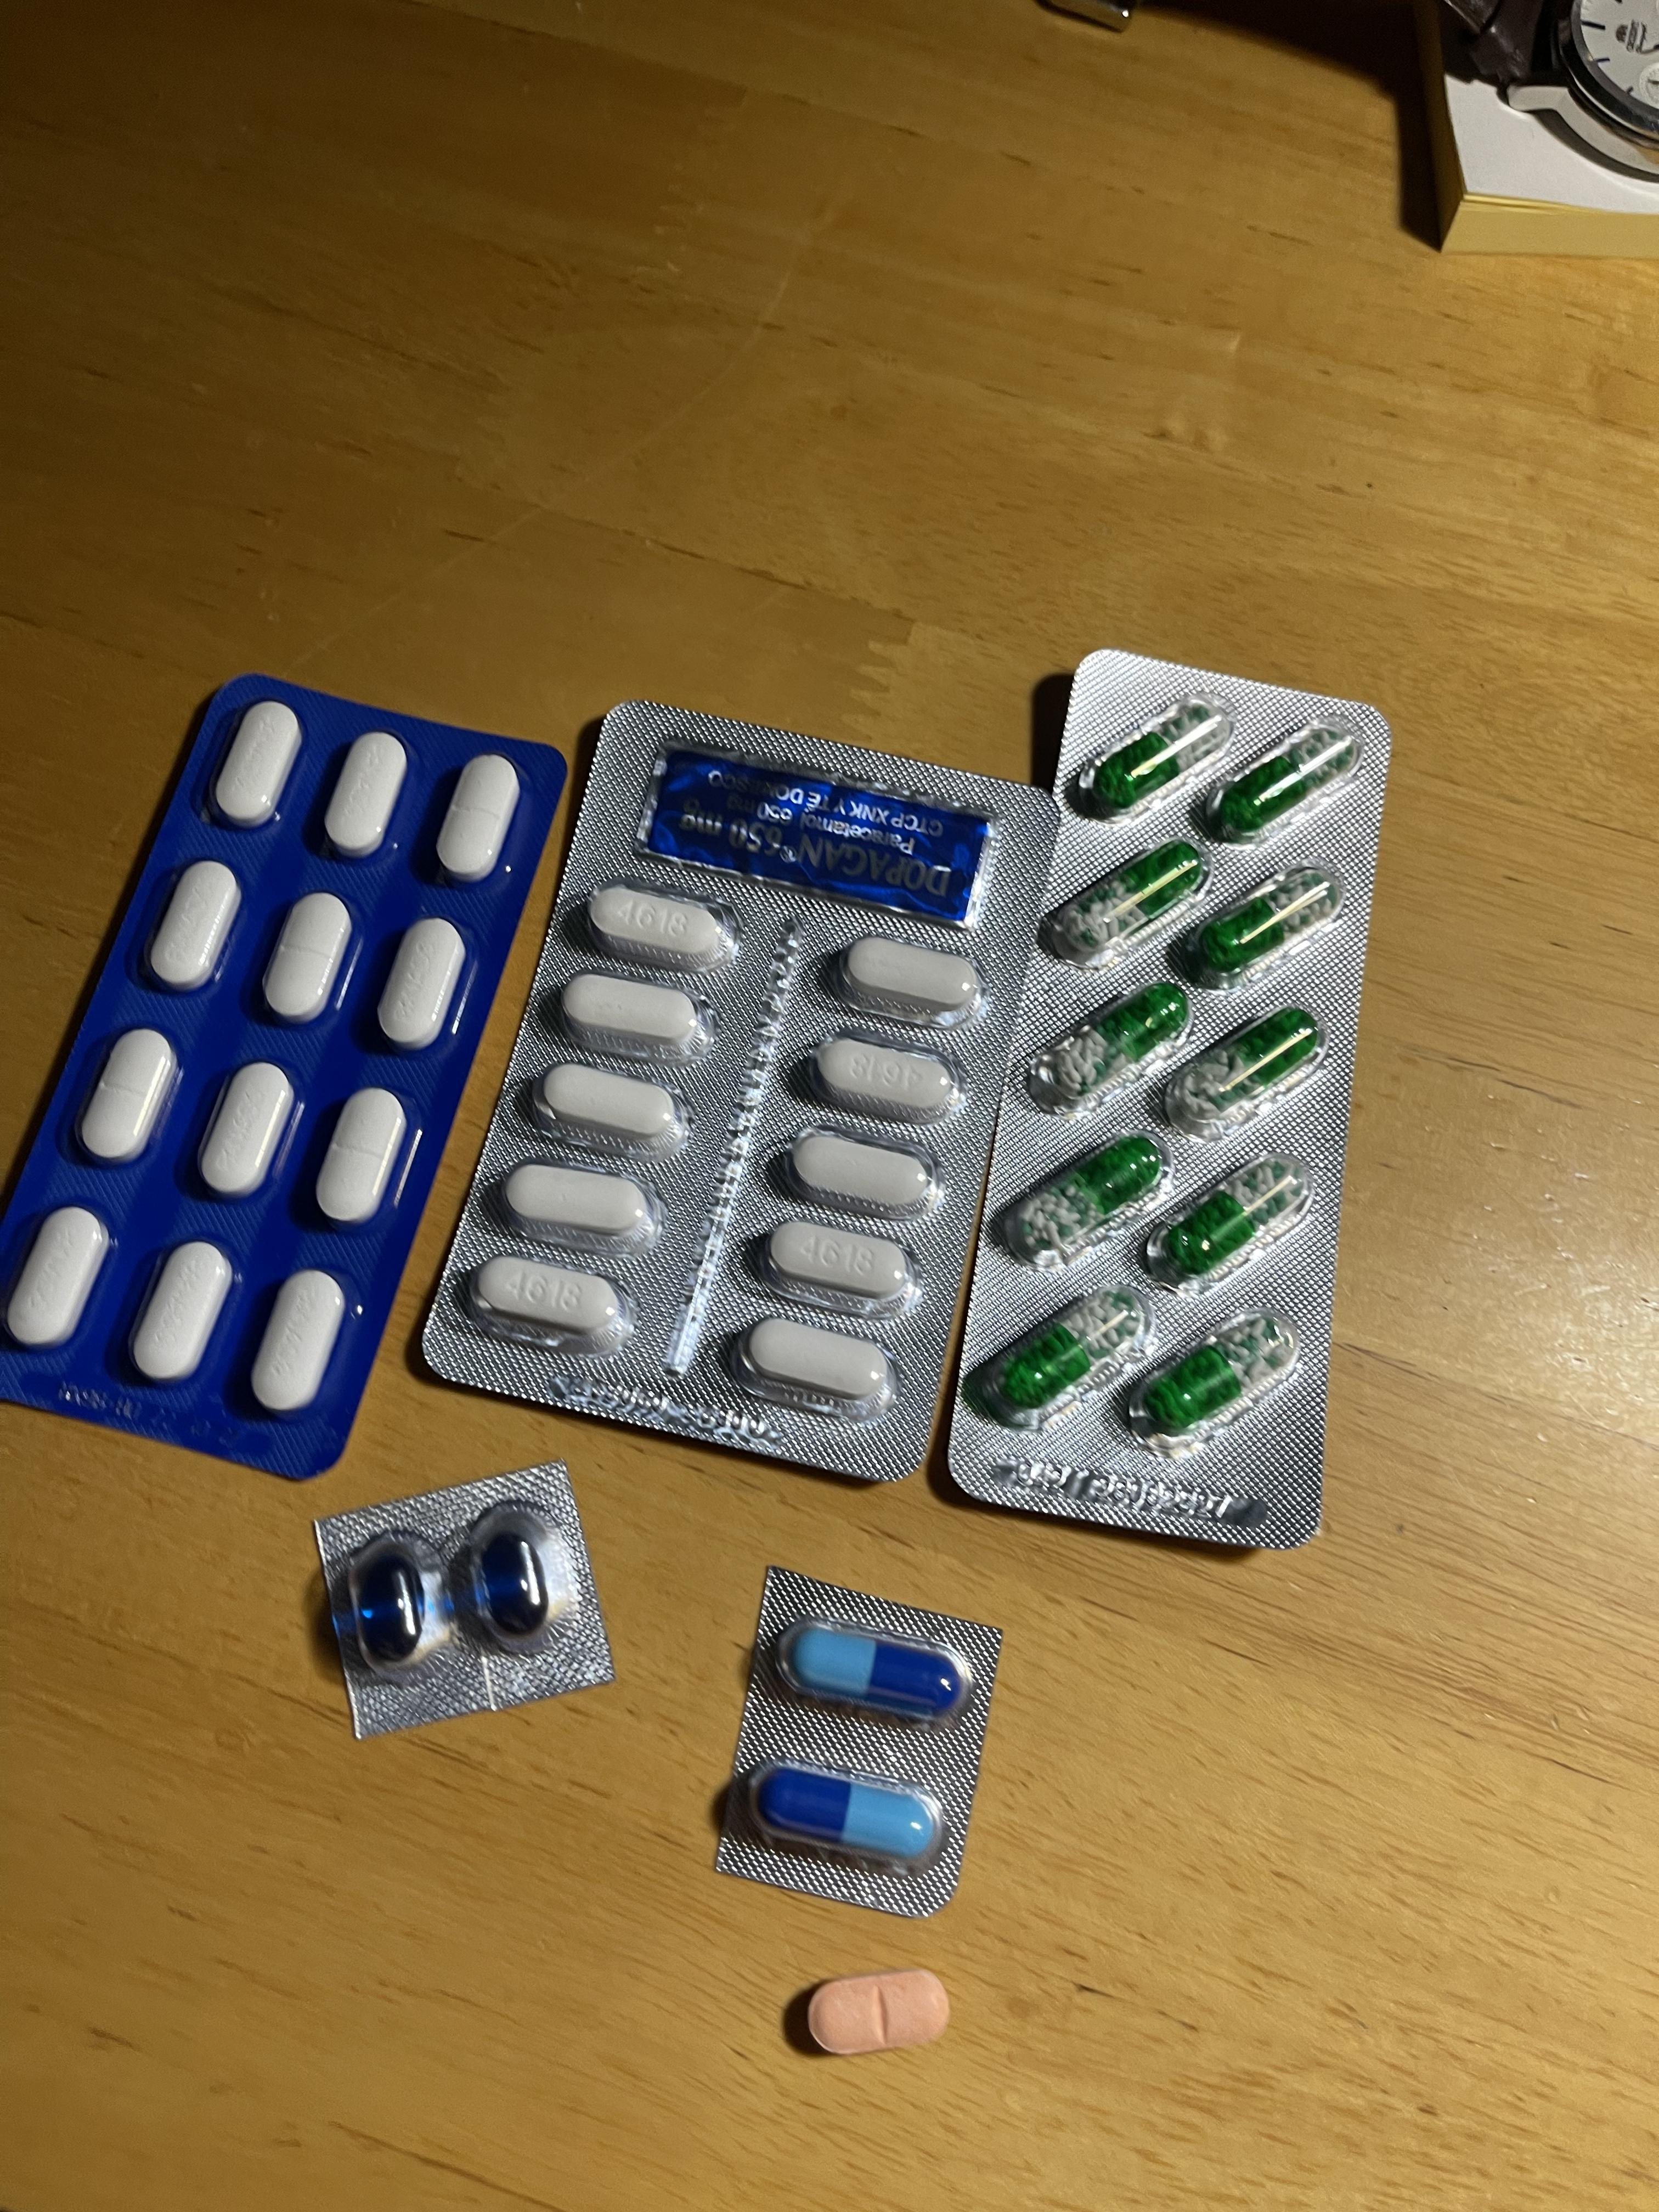Lincomyxin_500mg: (356, 1552, 429, 1660), (479, 1531, 551, 1632)
Loratadine_10mg: (805, 1972, 951, 2054)
Paracetamol_350mg: (127, 1240, 234, 1386), (5, 1205, 110, 1352), (247, 1268, 349, 1416), (197, 1062, 296, 1202), (78, 1028, 176, 1165), (315, 1089, 408, 1226), (146, 859, 240, 993), (261, 892, 354, 1026), (376, 918, 465, 1052), (211, 700, 301, 829), (322, 732, 410, 859), (434, 754, 521, 881)
Paracetamol_500mg: (728, 1310, 901, 1413), (467, 1252, 631, 1353), (772, 1127, 941, 1221), (497, 1158, 660, 1249), (758, 1219, 920, 1310), (798, 1033, 962, 1122), (533, 1059, 687, 1151), (833, 934, 985, 1026), (584, 883, 737, 974), (556, 972, 709, 1061)
Paracetamol_650mg: (1166, 1001, 1331, 1137), (1000, 1130, 1164, 1266), (1068, 691, 1236, 824), (1178, 862, 1347, 993), (1148, 1151, 1314, 1284), (1133, 1312, 1295, 1446), (990, 1285, 1147, 1421), (1035, 979, 1188, 1109), (1047, 841, 1206, 961), (1204, 723, 1361, 843)
pill: (756, 1764, 939, 1862), (788, 1623, 964, 1719)
